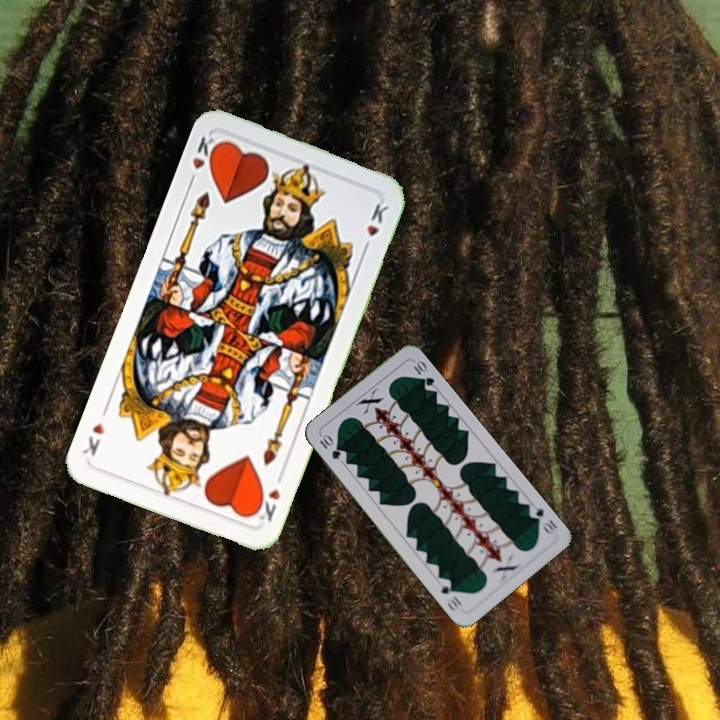G10: (524, 504, 560, 538), (315, 431, 343, 462)
HK: (184, 131, 223, 188), (250, 484, 283, 524)
